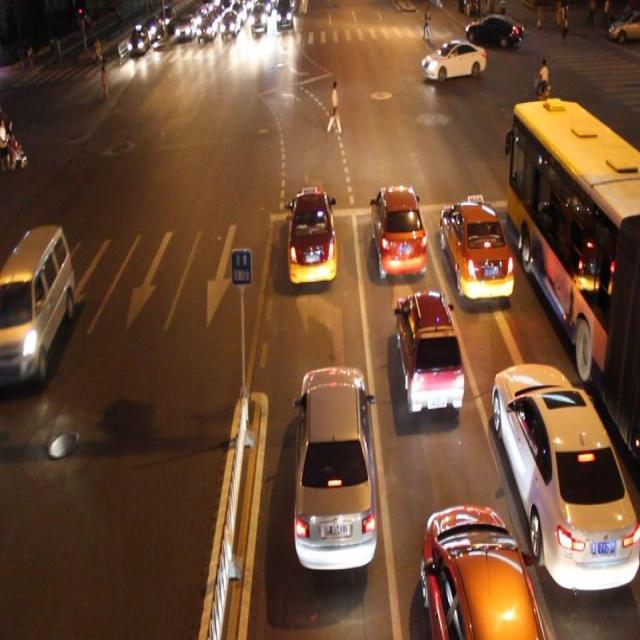car: (489, 363, 640, 595), (292, 362, 378, 574), (419, 499, 544, 640), (1, 221, 76, 392), (393, 287, 464, 415), (441, 196, 512, 307), (368, 183, 426, 280), (286, 184, 336, 288), (419, 38, 486, 82)
van: (507, 99, 640, 456)
